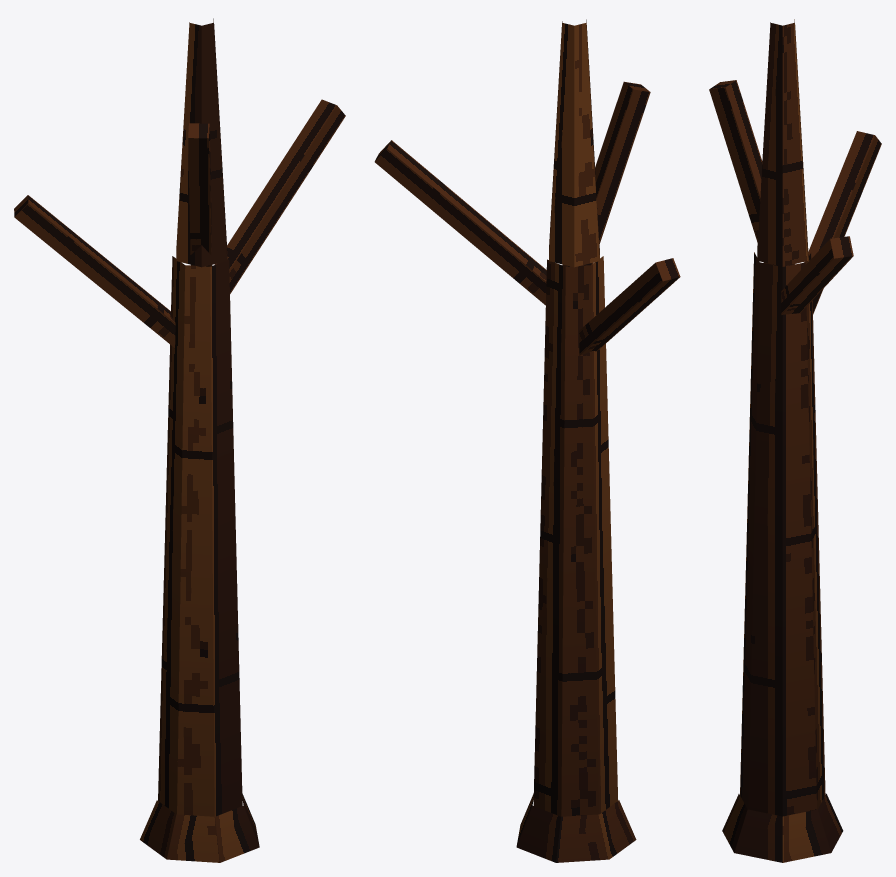
File: oak_1_trunk.glb
3 renders of one model, left to right at view 1: azimuth 30°, elevation 25°; view 2: azimuth 150°, elevation 25°; view 3: azimuth 270°, elevation 25°, orthographic.
Parts seen in each view (by area): view 1: oak_1_trunk; view 2: oak_1_trunk; view 3: oak_1_trunk.
Boxes of the visible parts, x1,y1,x2,y2 form: oak_1_trunk: (14,18,345,862); oak_1_trunk: (374,19,680,862); oak_1_trunk: (709,19,881,862).
Size of the model in its own units: 2.11 by 5.22 by 1.
Materials: 1 (1 with a texture image).
